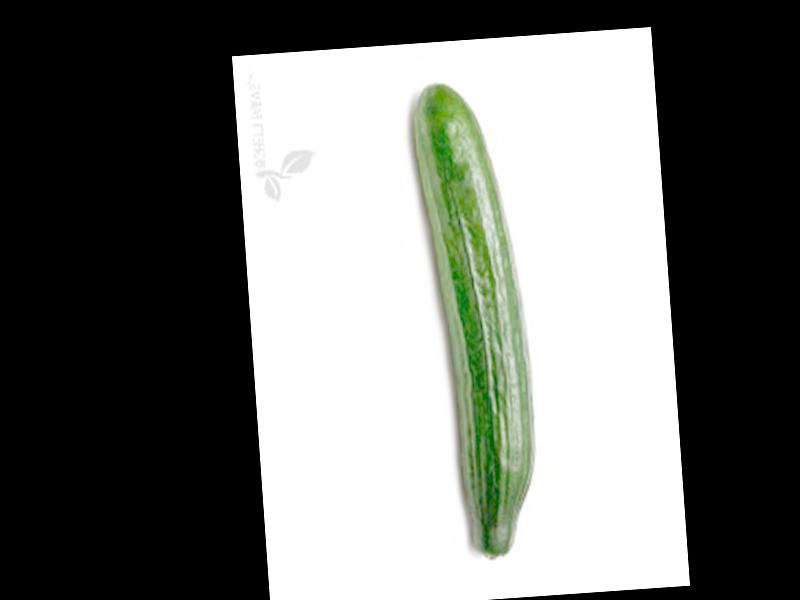Cucumber: (409, 76, 542, 563)
